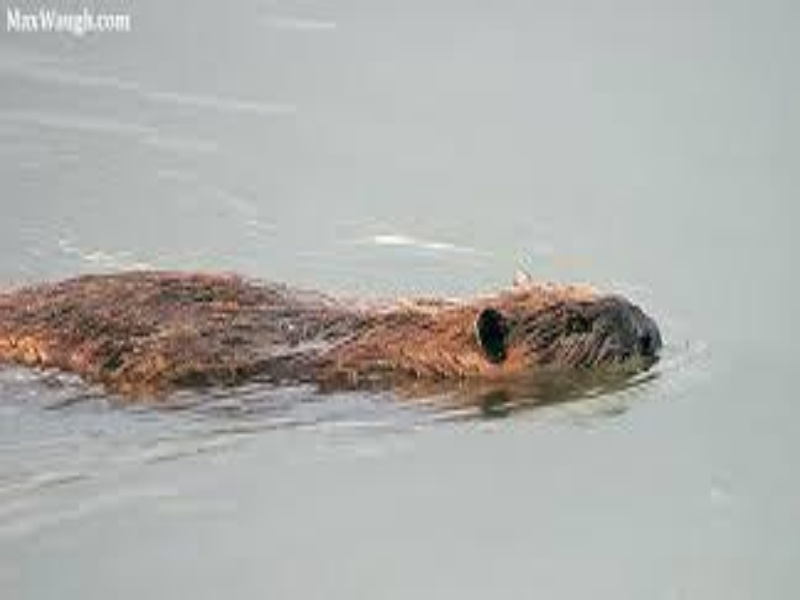minkish: (1, 256, 667, 392)
